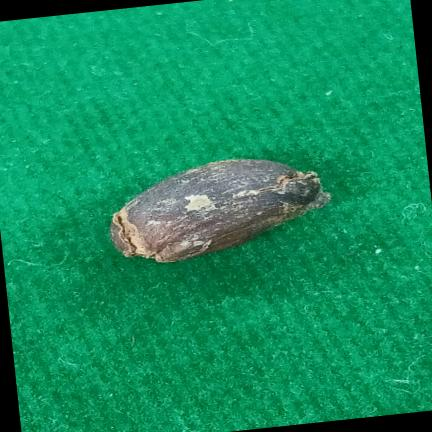husk: (110, 159, 330, 262)
